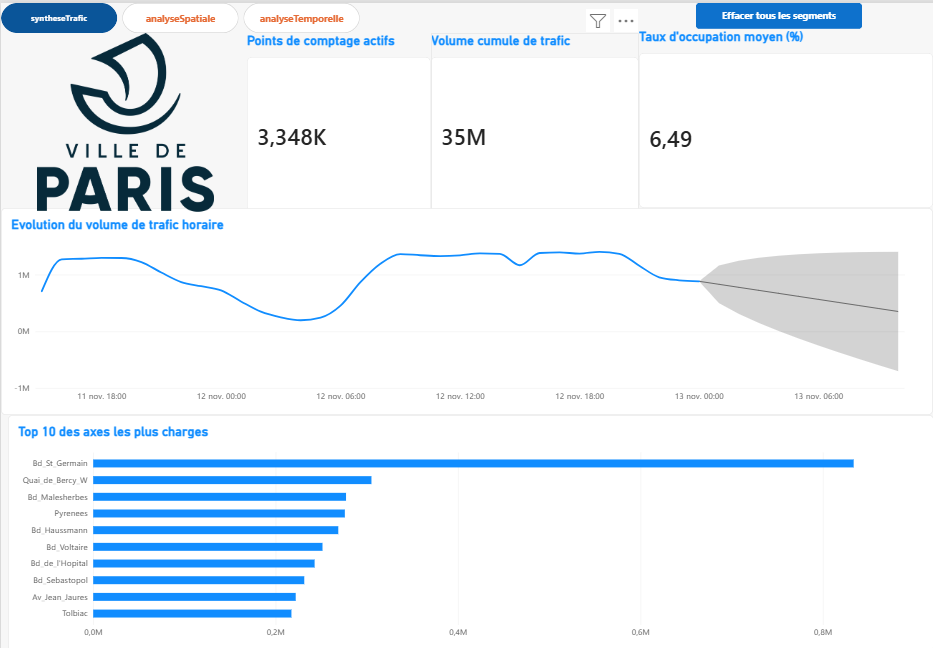

Layout of this report page (visuals, bound fields, positions):
{"tool":"powerbi","page":{"name":"syntheseTrafic","canvas":[1920,1080],"ordinal":0},"visuals":[{"type":"cardVisual","title":"Points de comptage actifs","fields":{"Data":["Count(paristraficbd referentiel-comptages.Identifiant_arc)"]},"box":[410,50,306.7,298.3],"z":0},{"type":"cardVisual","title":"Volume cumule de trafic","fields":{"Data":["Sum(paristraficbd comptages-routiers.Debit_horaire)"]},"box":[716.7,50,346.7,298.3],"z":1000},{"type":"cardVisual","title":"Taux d''occupation moyen (%)","fields":{"Data":["Avg(paristraficbd comptages-routiers.Taux_d_occupation)"]},"box":[1063.3,43.3,490,298.3],"z":2000},{"type":"lineChart","title":"Evolution du volume de trafic horaire","fields":{"Category":["paristraficbd comptages-routiers.Date_et_heure_de_comptage"],"Y":["Sum(paristraficbd comptages-routiers.Debit_horaire)"]},"box":[0,341.7,1553.3,345],"z":3000},{"type":"image","box":[0,50,415,298.3],"z":4000},{"type":"clusteredBarChart","title":"Top 10 des axes les plus charges","fields":{"Category":["paristraficbd comptages-routiers.Libelle"],"Y":["Sum(paristraficbd comptages-routiers.Debit_horaire)"]},"box":[10,686.7,1543.3,393.3],"z":5000},{"type":"pageNavigator","box":[0,0,600,50],"z":6000},{"type":"actionButton","box":[1158.3,0,276.7,43.3],"z":7000}]}

Visuals, with their boxes on the page's 1920x1080 design canvas (x1, y1, x2, y2). These are canvas units, not pixel positions in the 933x648 screenshot, which may show the page scaled, cropped or inside an application window:
"Points de comptage actifs" cardVisual: box(410, 50, 717, 348)
"Volume cumule de trafic" cardVisual: box(717, 50, 1063, 348)
"Taux d''occupation moyen (%)" cardVisual: box(1063, 43, 1553, 342)
"Evolution du volume de trafic horaire" lineChart: box(0, 342, 1553, 687)
image: box(0, 50, 415, 348)
"Top 10 des axes les plus charges" clusteredBarChart: box(10, 687, 1553, 1080)
pageNavigator: box(0, 0, 600, 50)
actionButton: box(1158, 0, 1435, 43)
